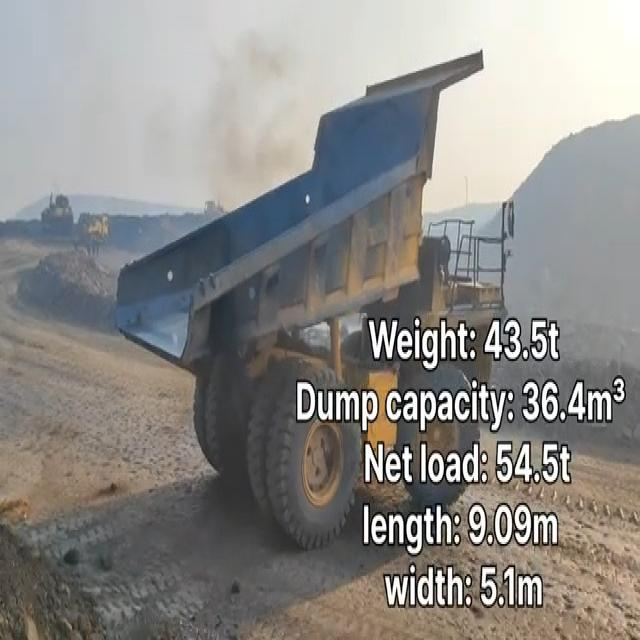dump_truck: (126, 90, 518, 339)
